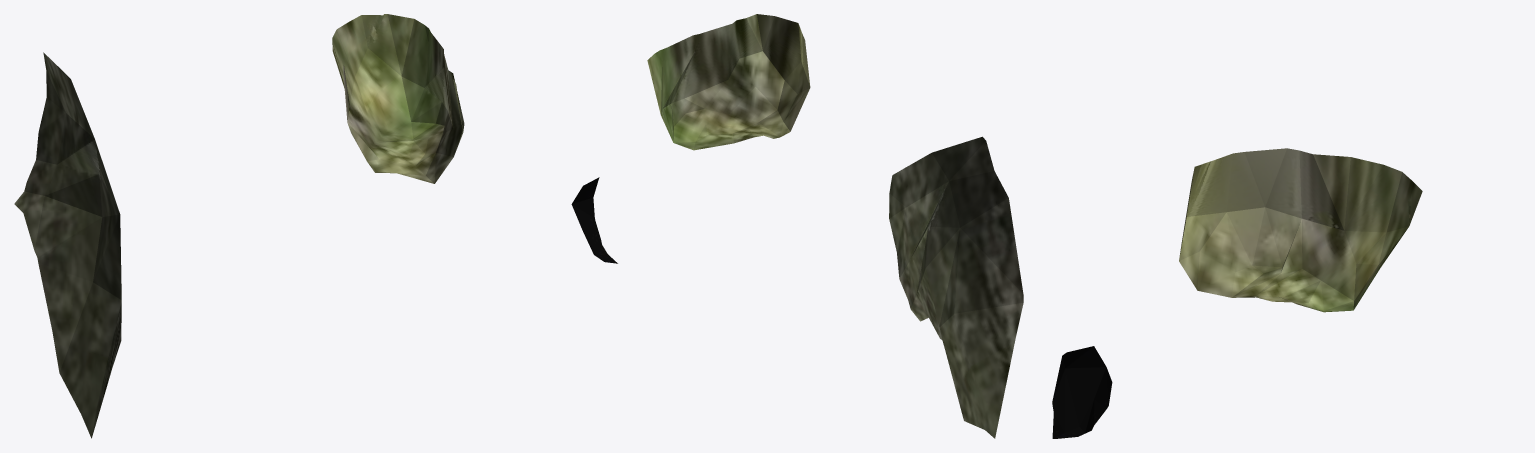
The picture shows the model from 3 angles, left to right: view 1: azimuth 30°, elevation 25°; view 2: azimuth 150°, elevation 25°; view 3: azimuth 270°, elevation 25°; orthographic projection. The views are drawn at different scales.
Size of the model in its own units: 2.95 by 2.24 by 2.48.
2 materials, 2 textured.
